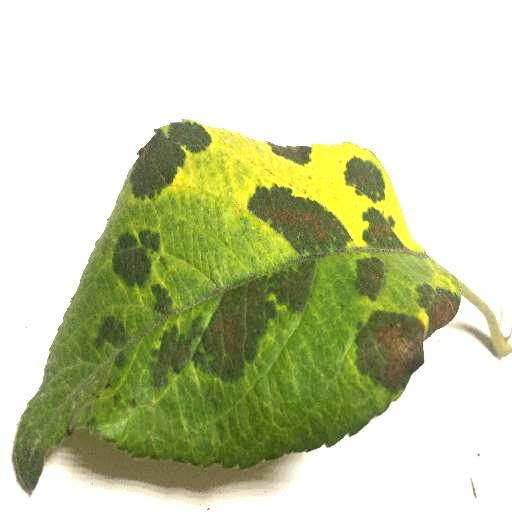Brown_Spot: (210, 293, 261, 363), (133, 139, 199, 187), (247, 205, 333, 241), (369, 323, 419, 379), (112, 239, 146, 284), (352, 161, 387, 201), (367, 214, 398, 251), (421, 294, 455, 323), (269, 143, 311, 166), (351, 262, 378, 296)
